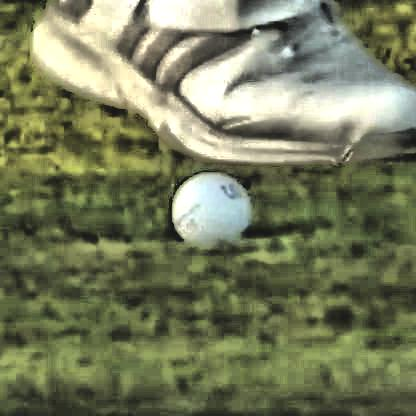golfball: (166, 170, 248, 247)
